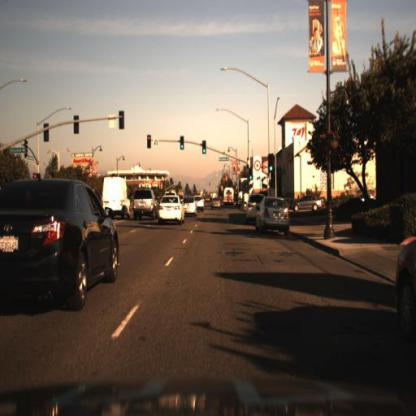car: (1, 174, 126, 317), (257, 195, 291, 242), (132, 184, 161, 223), (157, 197, 186, 223), (291, 193, 327, 213), (182, 195, 200, 221), (209, 196, 223, 213), (196, 195, 206, 216)
trafficLight-Green: (267, 157, 276, 178), (268, 152, 275, 174), (248, 166, 255, 184), (181, 137, 187, 157), (203, 139, 209, 155), (249, 169, 255, 184)
trafficLight-RedLeft: (145, 131, 153, 153)
truck: (102, 173, 131, 222), (223, 187, 235, 207)
